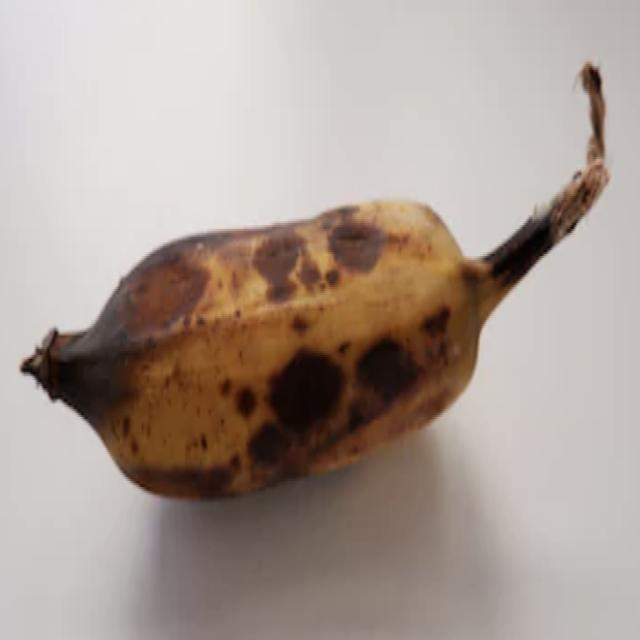Rotten: (10, 38, 625, 544)
